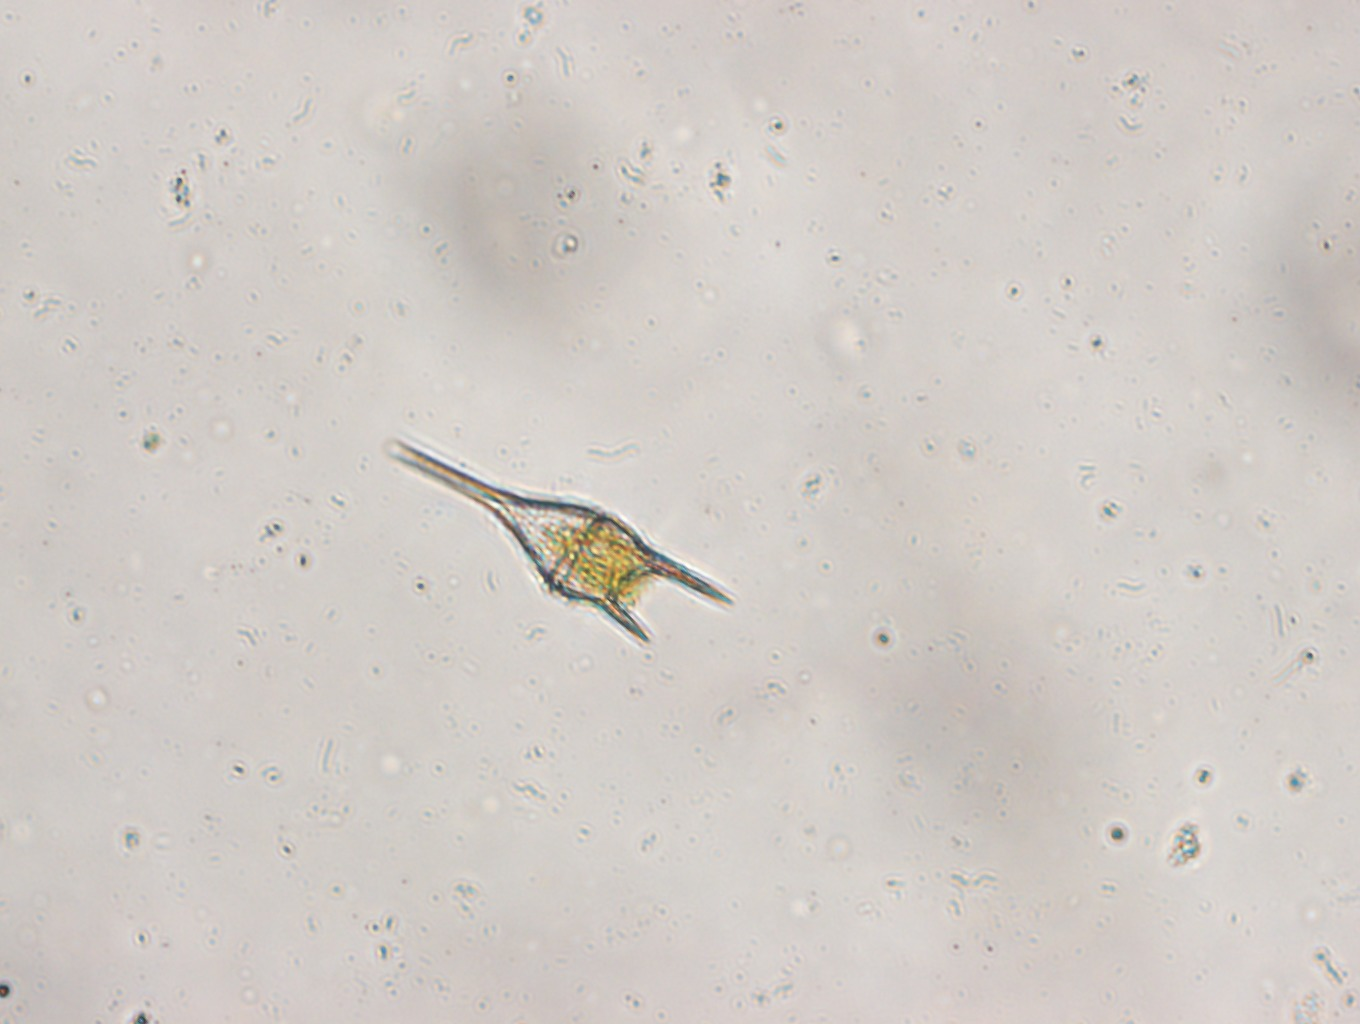ceratium furca: (376, 433, 740, 646)
